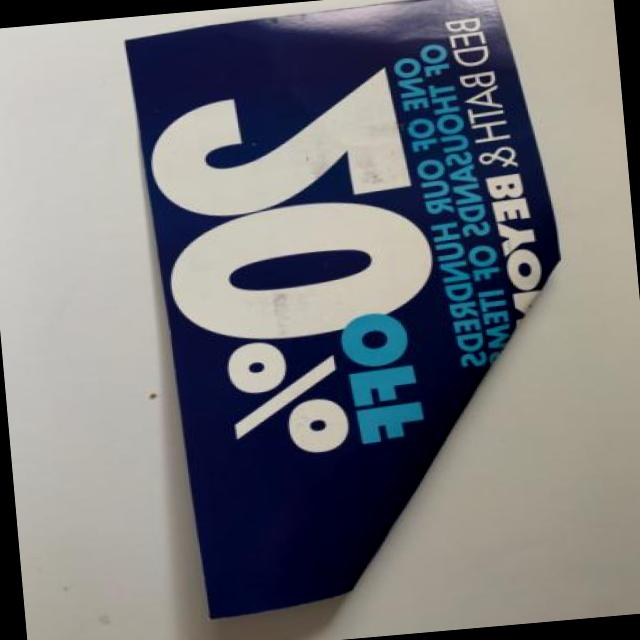paper: (114, 0, 559, 521)
